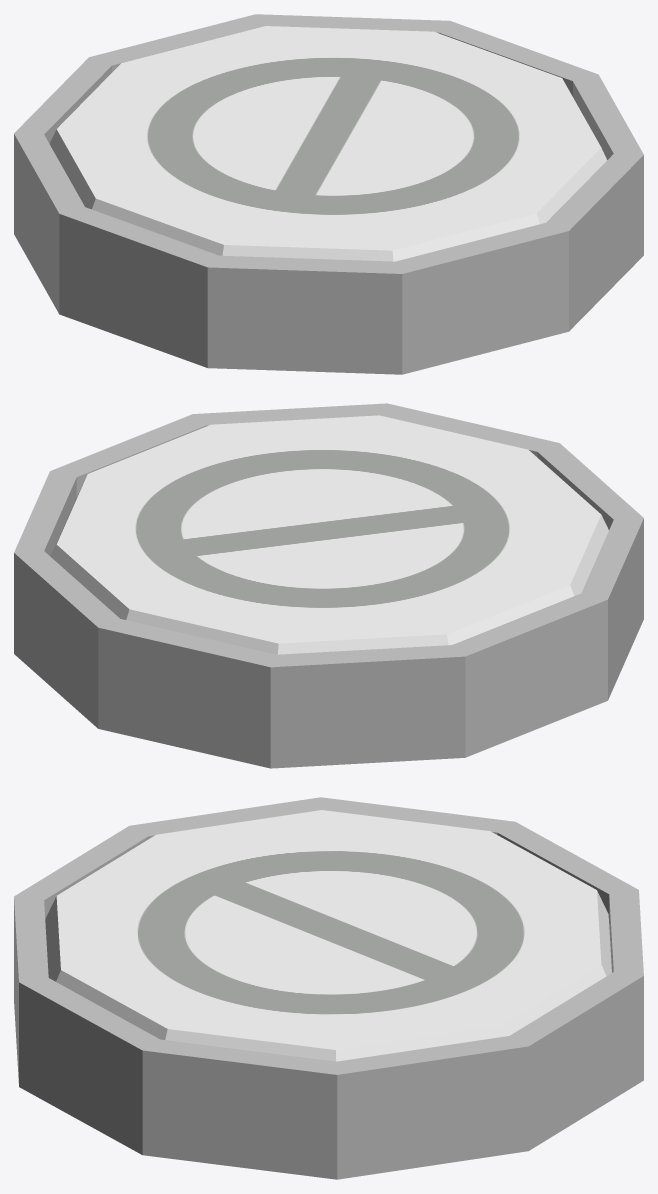
The model's file is Coin+.fbx.
3 views of the same model, one above another, from view 1: azimuth 30°, elevation 25°; view 2: azimuth 150°, elevation 25°; view 3: azimuth 270°, elevation 25° (orthographic). The views are drawn at different scales.
Visible parts, largest first — view 1: Cylinder_001.025, Cylinder.024; view 2: Cylinder_001.025, Cylinder.024; view 3: Cylinder_001.025, Cylinder.024.
Part boxes in pixels (bbox=[...]): Cylinder_001.025: bbox=[49, 26, 607, 261]; Cylinder.024: bbox=[14, 14, 643, 374]; Cylinder_001.025: bbox=[51, 415, 608, 654]; Cylinder.024: bbox=[14, 403, 643, 768]; Cylinder_001.025: bbox=[45, 810, 611, 1061]; Cylinder.024: bbox=[14, 797, 643, 1179].
Size of the model in its own units: 4.9 by 0.9507 by 4.69.
